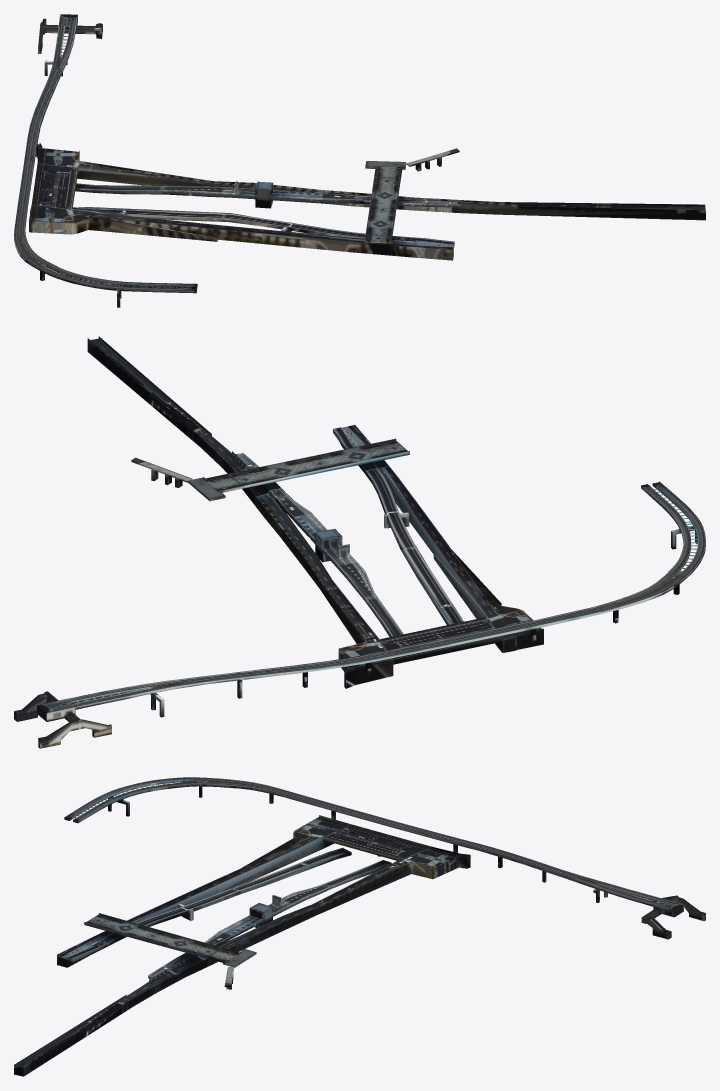
File: 53393641_brid_6677.fbx
3 views of the same model, one above another, from view 1: azimuth 30°, elevation 25°; view 2: azimuth 150°, elevation 25°; view 3: azimuth 270°, elevation 25° (orthographic). The views are drawn at different scales.
Visible parts, largest first — view 1: plateau_merged.007, plateau_merged.001, plateau_merged.002, plateau_merged.005, plateau_merged, plateau_merged.006, plateau_merged.008; view 2: plateau_merged.007, plateau_merged.002, plateau_merged, plateau_merged.005, plateau_merged.001, plateau_merged.006; view 3: plateau_merged.007, plateau_merged.002, plateau_merged, plateau_merged.005, plateau_merged.001, plateau_merged.006.
Part boxes in pixels (x1,y1,x2,y2): plateau_merged.007: [29, 143, 705, 260]; plateau_merged.001: [75, 181, 450, 207]; plateau_merged.002: [14, 171, 197, 307]; plateau_merged.005: [364, 161, 406, 243]; plateau_merged: [23, 14, 77, 172]; plateau_merged.006: [38, 18, 102, 53]; plateau_merged.008: [255, 181, 273, 208]; plateau_merged.007: [87, 336, 543, 688]; plateau_merged.002: [444, 481, 705, 646]; plateau_merged: [37, 639, 449, 721]; plateau_merged.005: [188, 438, 409, 501]; plateau_merged.001: [235, 452, 403, 636]; plateau_merged.006: [14, 691, 111, 748]; plateau_merged.007: [14, 815, 470, 1076]; plateau_merged.002: [64, 777, 399, 828]; plateau_merged: [394, 822, 683, 917]; plateau_merged.005: [84, 913, 256, 967]; plateau_merged.001: [148, 860, 391, 978]; plateau_merged.006: [641, 895, 705, 939].
Bounding box in the file's own units: 503 × 26.49 × 534.
Materials: 8 (8 with a texture image).
